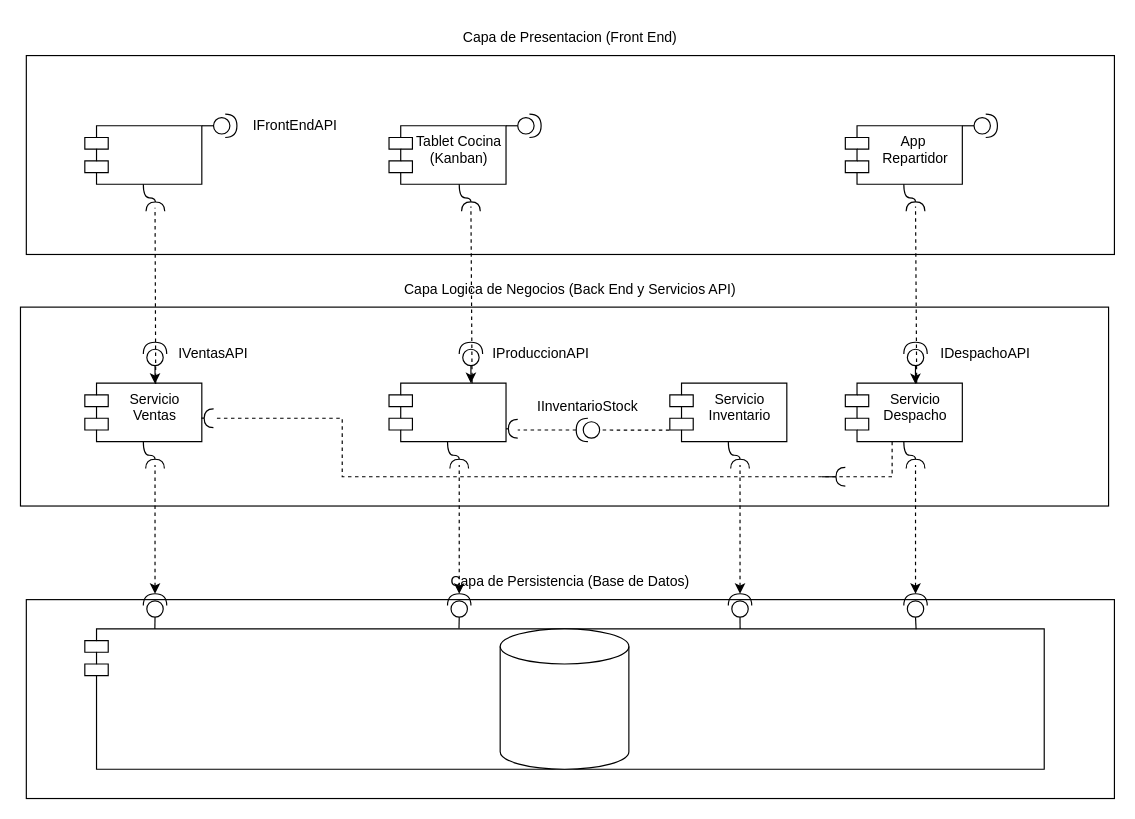
Image size: 1135x819. Some labels were removed from this diagram. The shapes that lost their labels are listed below. From the top down, each one's centre as x and y in pixels, then its label:
At (143,154): "App web Cliente".
At (447,412): "Servicio Produccion".
At (564,698): "Base de Datos MySQL (O PostgreSQL)".
